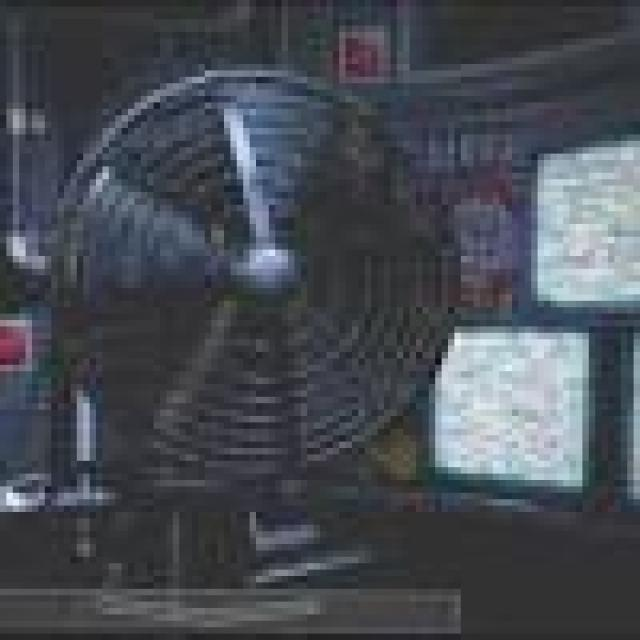fan: (62, 44, 506, 570)
